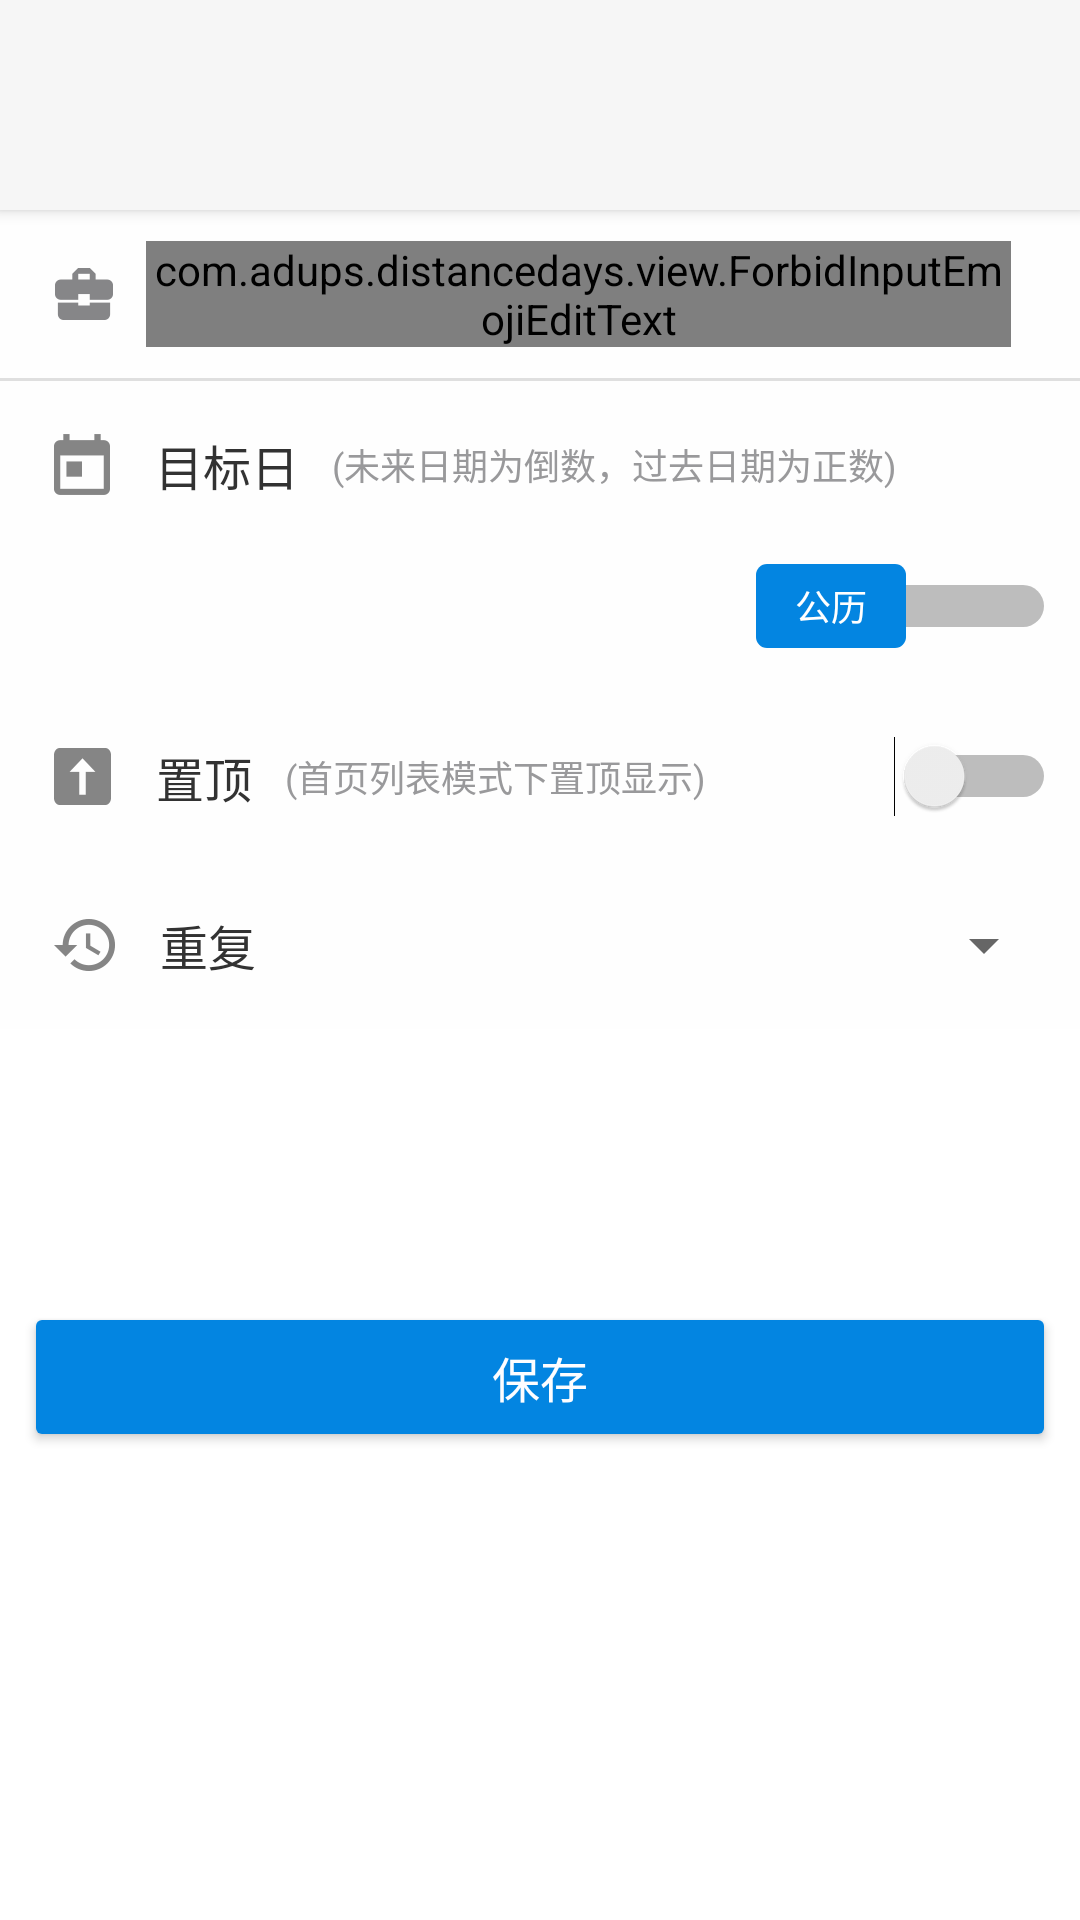

Icon click points for this 1080x1920 phone screenshot, format [x,y]:
add target date: [82,464]
